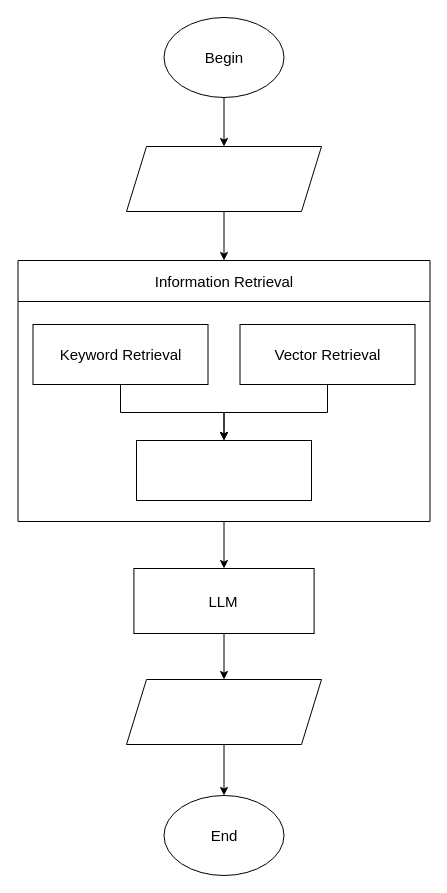
This 447x893 diagram has some shape labels left out. Each missing label, with the centre of its shape:
"Answer" belongs at pixel 224 711.
"Question" belongs at pixel 224 179.
"RRF Fusion" belongs at pixel 224 470.
